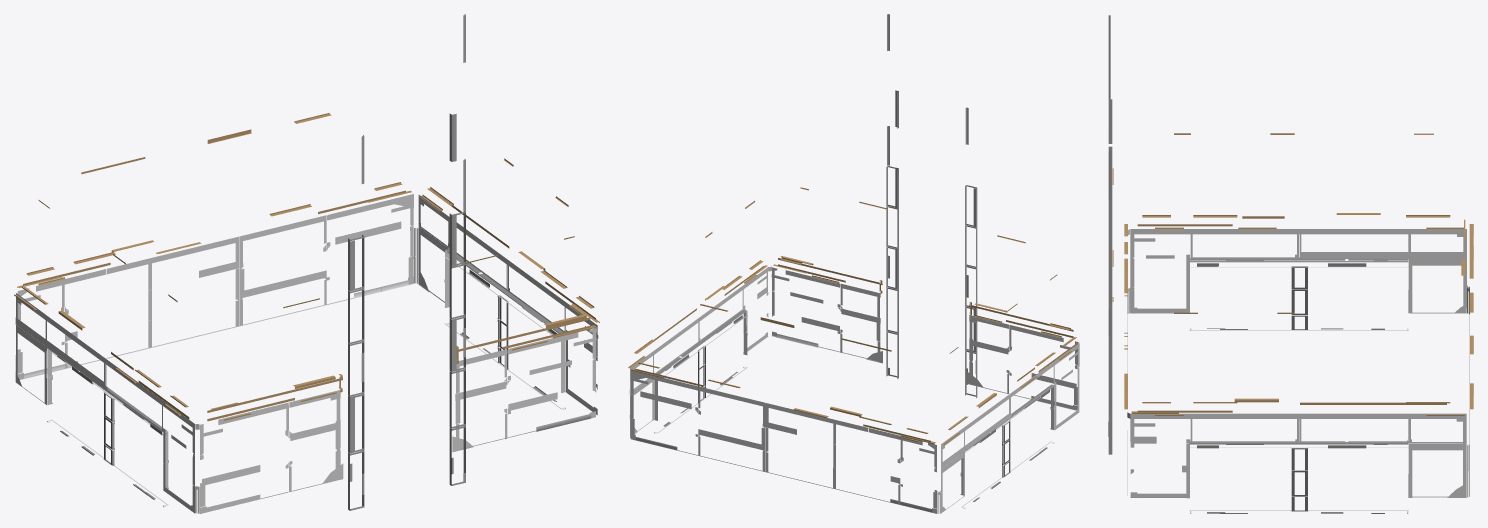
3 renders of one model, left to right at view 1: azimuth 30°, elevation 25°; view 2: azimuth 150°, elevation 25°; view 3: azimuth 270°, elevation 25°, orthographic. The views are drawn at different scales.
Visible parts, largest first — view 1: SM_H_Building_FutureTech_Dormitory_01_Decal; view 2: SM_H_Building_FutureTech_Dormitory_01_Decal; view 3: SM_H_Building_FutureTech_Dormitory_01_Decal.
Boxes of the visible parts, box(x1,y1,x2,y2) form: SM_H_Building_FutureTech_Dormitory_01_Decal: box(14, 14, 599, 513); SM_H_Building_FutureTech_Dormitory_01_Decal: box(628, 14, 1079, 513); SM_H_Building_FutureTech_Dormitory_01_Decal: box(1108, 15, 1473, 513).
Size of the model in its own units: 544 by 660 by 723.
